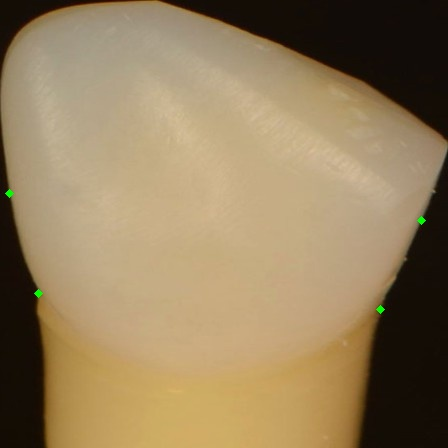coin_1: (380, 309, 400, 329)
coin_2: (421, 220, 441, 240)
coin_3: (38, 293, 58, 313)
coin_4: (9, 193, 29, 213)
